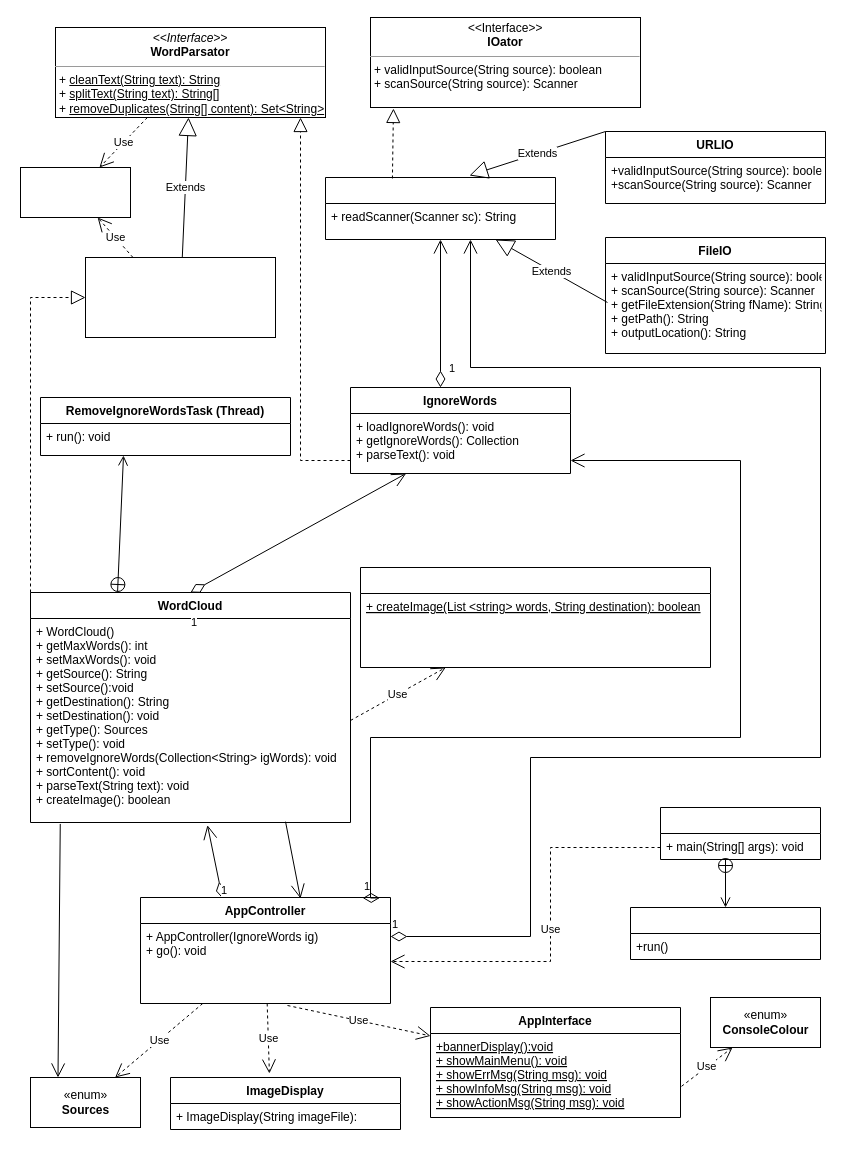
This 855x1150 diagram has some shape labels left out. Each missing label, with the box of its shape:
<<Interface>> Scriptator + cleanScript(String text): String: (84, 256, 276, 338)
IgnoreWordsSetup (Thread): (630, 906, 820, 960)
InputProcesser: (324, 176, 556, 240)
Runner: (660, 806, 820, 860)
WCImageMaker: (360, 566, 710, 668)
«enum» Patterns: (20, 166, 130, 218)
